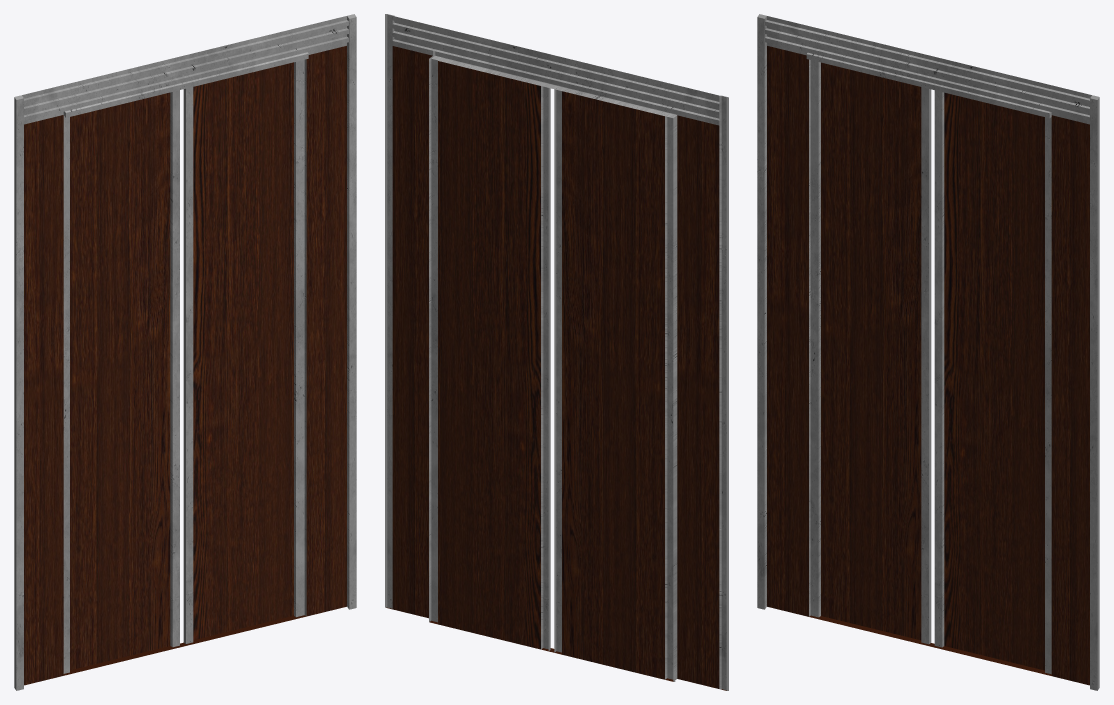
The model's file is front_wall.glb.
3 renders of one model, left to right at view 1: azimuth 30°, elevation 25°; view 2: azimuth 150°, elevation 25°; view 3: azimuth 330°, elevation 25°, orthographic.
Visible parts, largest first — view 1: doors; view 2: doors; view 3: doors.
Boxes of the visible parts, box(x1,y1,x2,y2) form: doors: box(14, 14, 356, 690); doors: box(385, 14, 728, 690); doors: box(757, 14, 1099, 690).
Bounding box in the file's own units: 12.02 × 20 × 0.3759.
2 materials, 2 textured.
